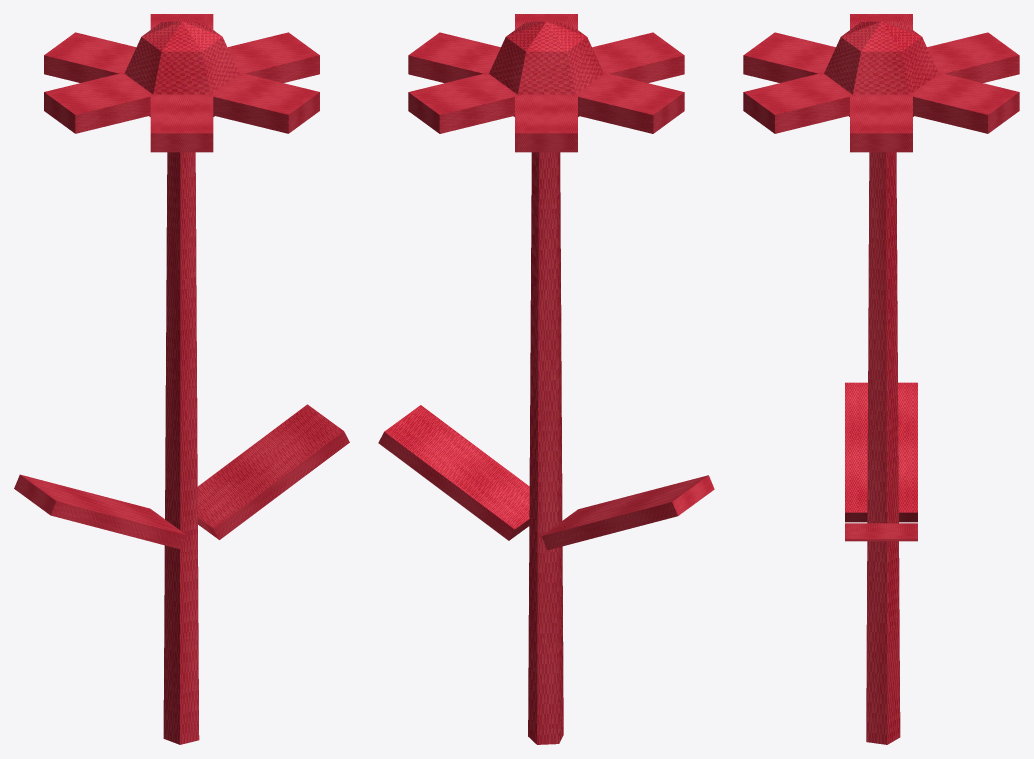
Rendered from lirio_de_sangue.glb.
The picture shows the model from 3 angles, left to right: view 1: azimuth 30°, elevation 25°; view 2: azimuth 150°, elevation 25°; view 3: azimuth 270°, elevation 25°; orthographic projection.
Visible parts, largest first — view 1: lirio_de_sangue; view 2: lirio_de_sangue; view 3: lirio_de_sangue.
Boxes of the visible parts, bbox=[...] form: lirio_de_sangue: bbox=[14, 14, 349, 744]; lirio_de_sangue: bbox=[378, 14, 714, 744]; lirio_de_sangue: bbox=[743, 14, 1019, 744].
Size of the model in its own units: 0.3306 by 0.755 by 0.2638.
1 material, 1 textured.
